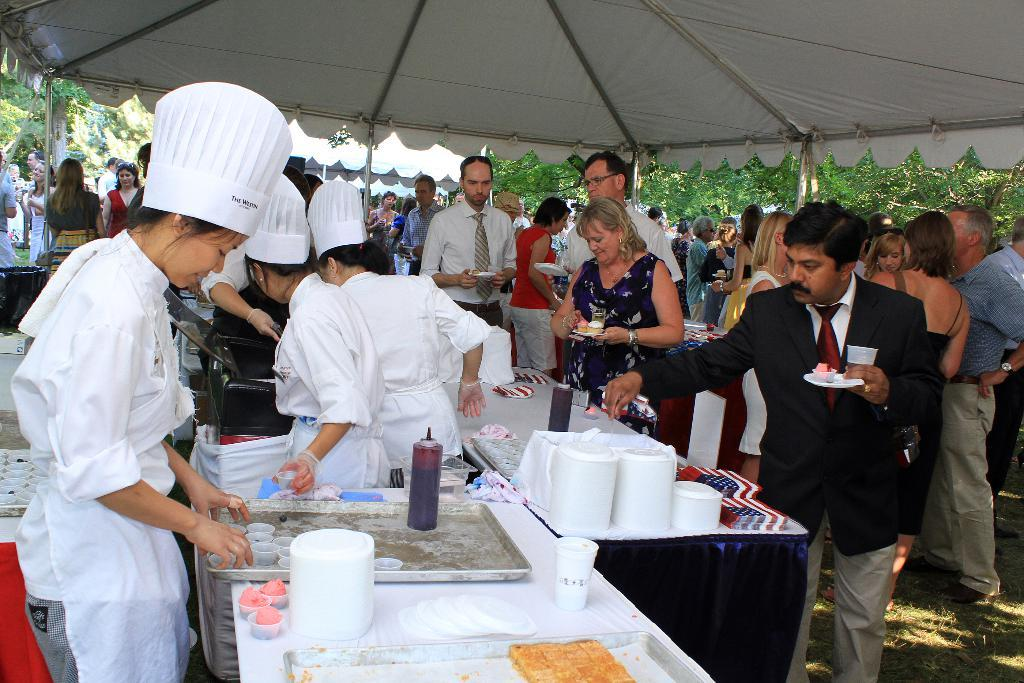Hat: (872, 212, 902, 234), (492, 194, 522, 212), (714, 218, 732, 228)
